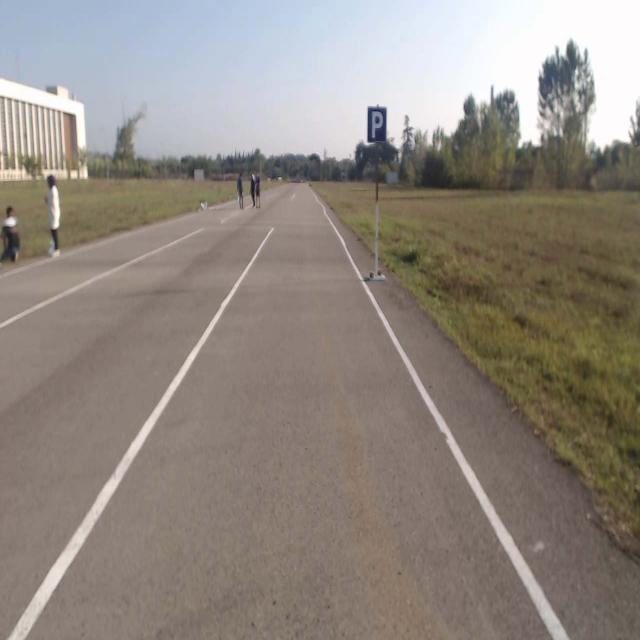park: (368, 106, 387, 142)
